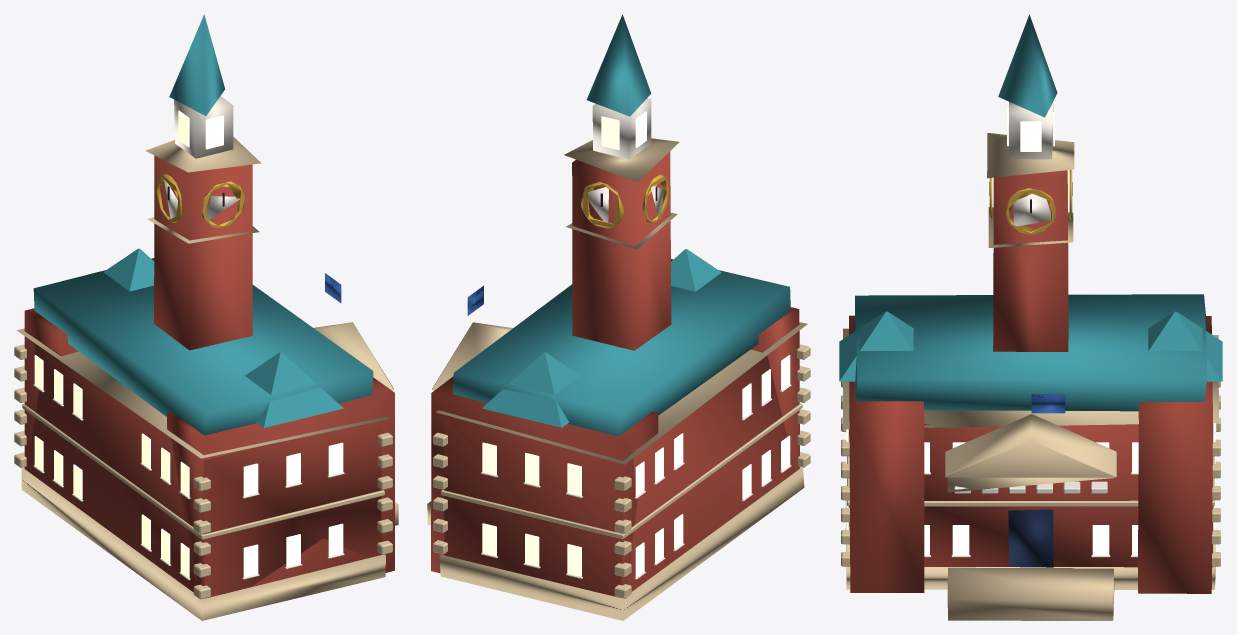
Rendered from town_hall.glb.
3 renders of one model, left to right at view 1: azimuth 30°, elevation 25°; view 2: azimuth 150°, elevation 25°; view 3: azimuth 270°, elevation 25°, orthographic. The views are drawn at different scales.
Visible parts, largest first — view 1: town_hall; view 2: town_hall; view 3: town_hall.
Boxes of the visible parts, x1,y1,x2,y2 form: town_hall: [14, 14, 398, 620]; town_hall: [427, 14, 810, 620]; town_hall: [839, 14, 1222, 620].
Bounding box in the file's own units: 19.49 × 38.5 × 25.22.
Materials: 1 (1 with a texture image).
